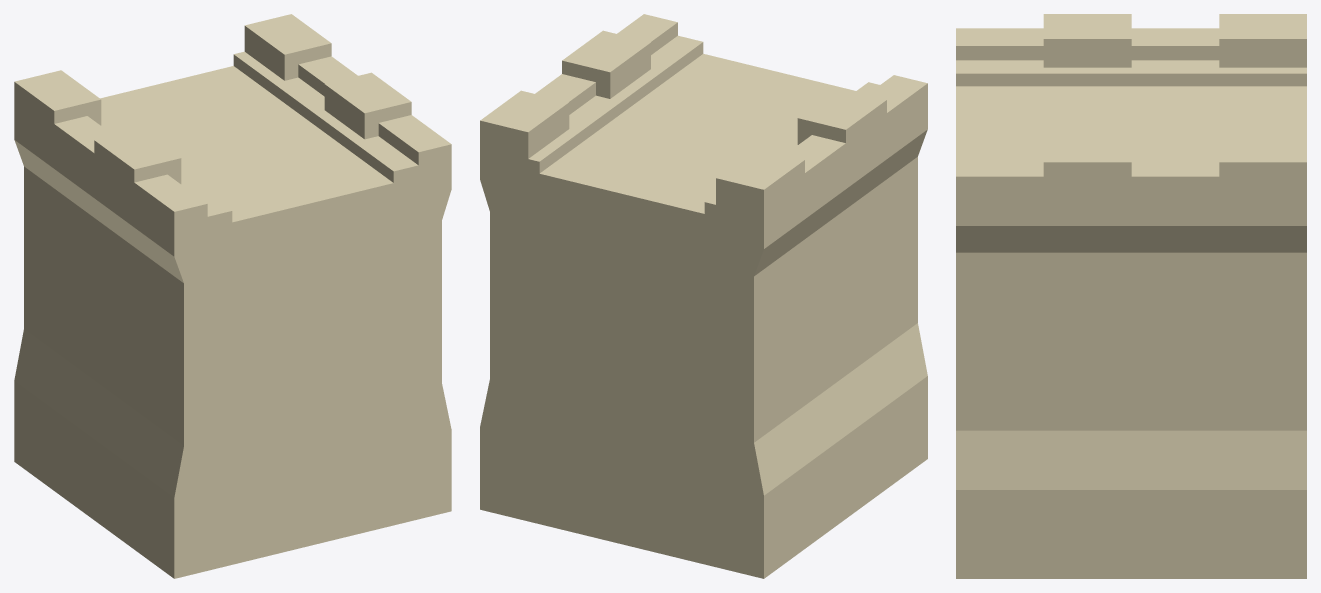
Rendered from wall.glb.
The picture shows the model from 3 angles, left to right: view 1: azimuth 30°, elevation 25°; view 2: azimuth 150°, elevation 25°; view 3: azimuth 270°, elevation 25°; orthographic projection. The views are drawn at different scales.
Parts seen in each view (by area): view 1: wall; view 2: wall; view 3: wall.
Part boxes in pixels (x1,y1,x2,y2): wall: (14,14,451,578); wall: (480,14,927,578); wall: (956,14,1306,578).
Bounding box in the file's own units: 10 × 13.1 × 10.
